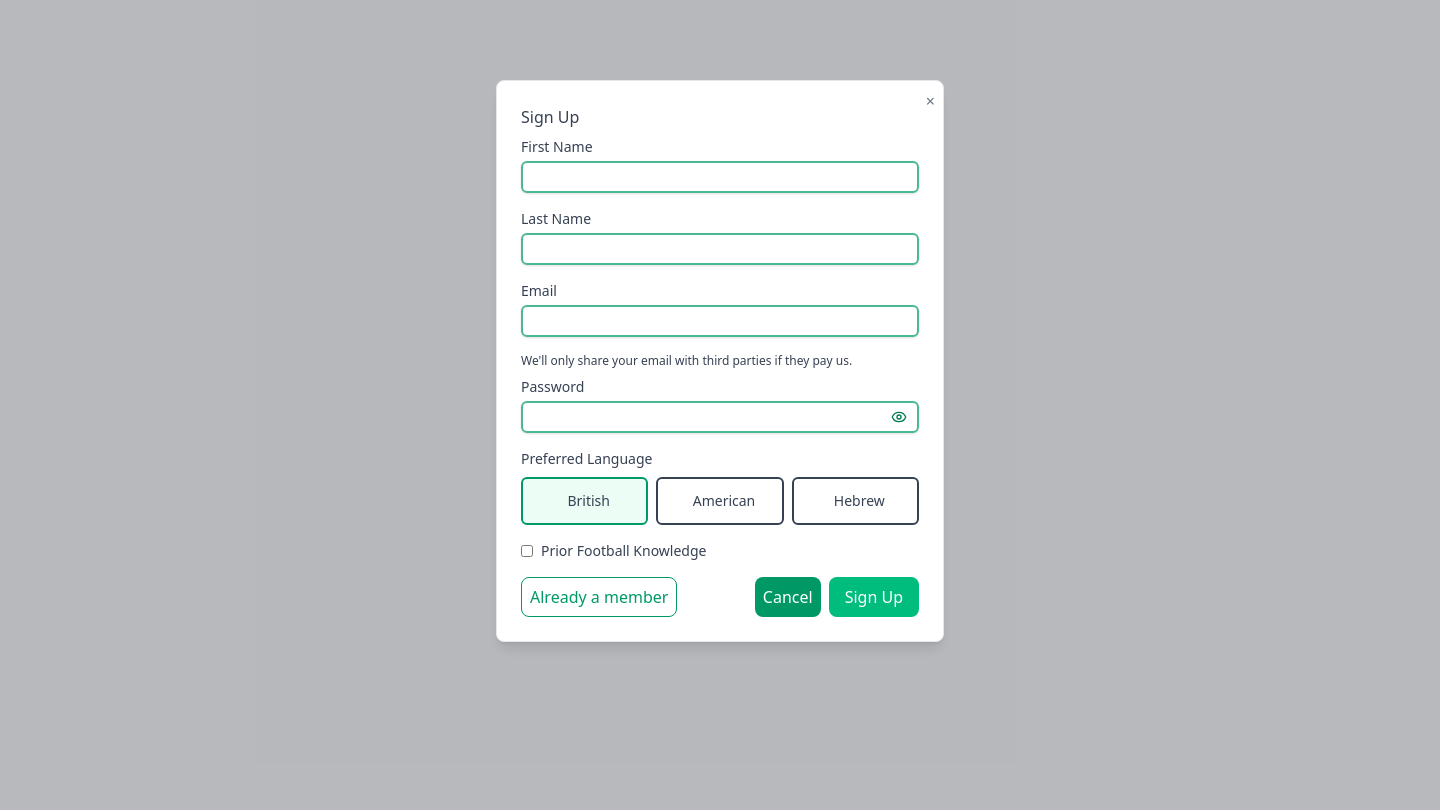
it: SignUpForm › validation › requires a last name
Type "Yekutiel" into the field labelled "First Name" at [720, 177], box [521,161,919,193]
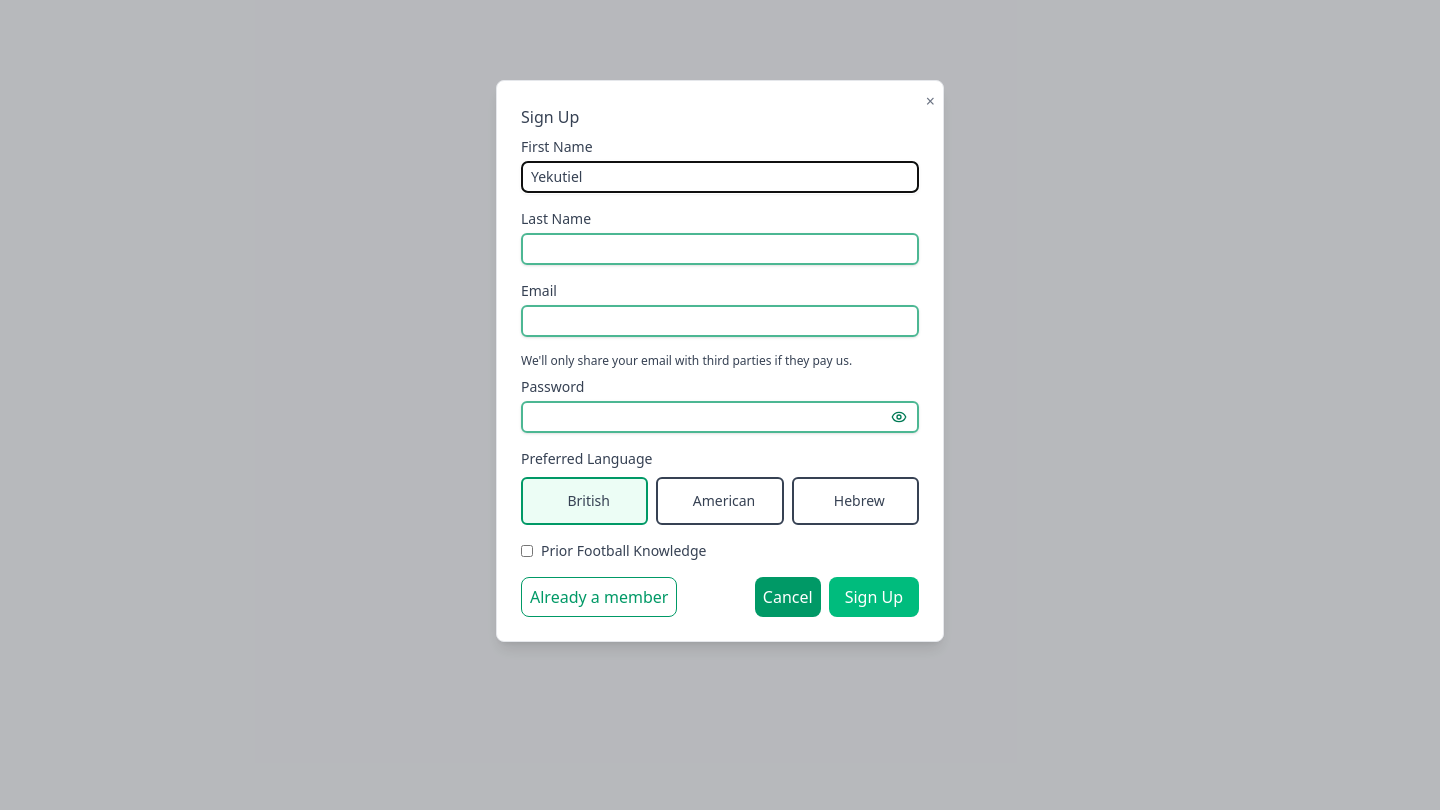
Click the button "Sign Up" at [874, 597], box [829,577,919,617]
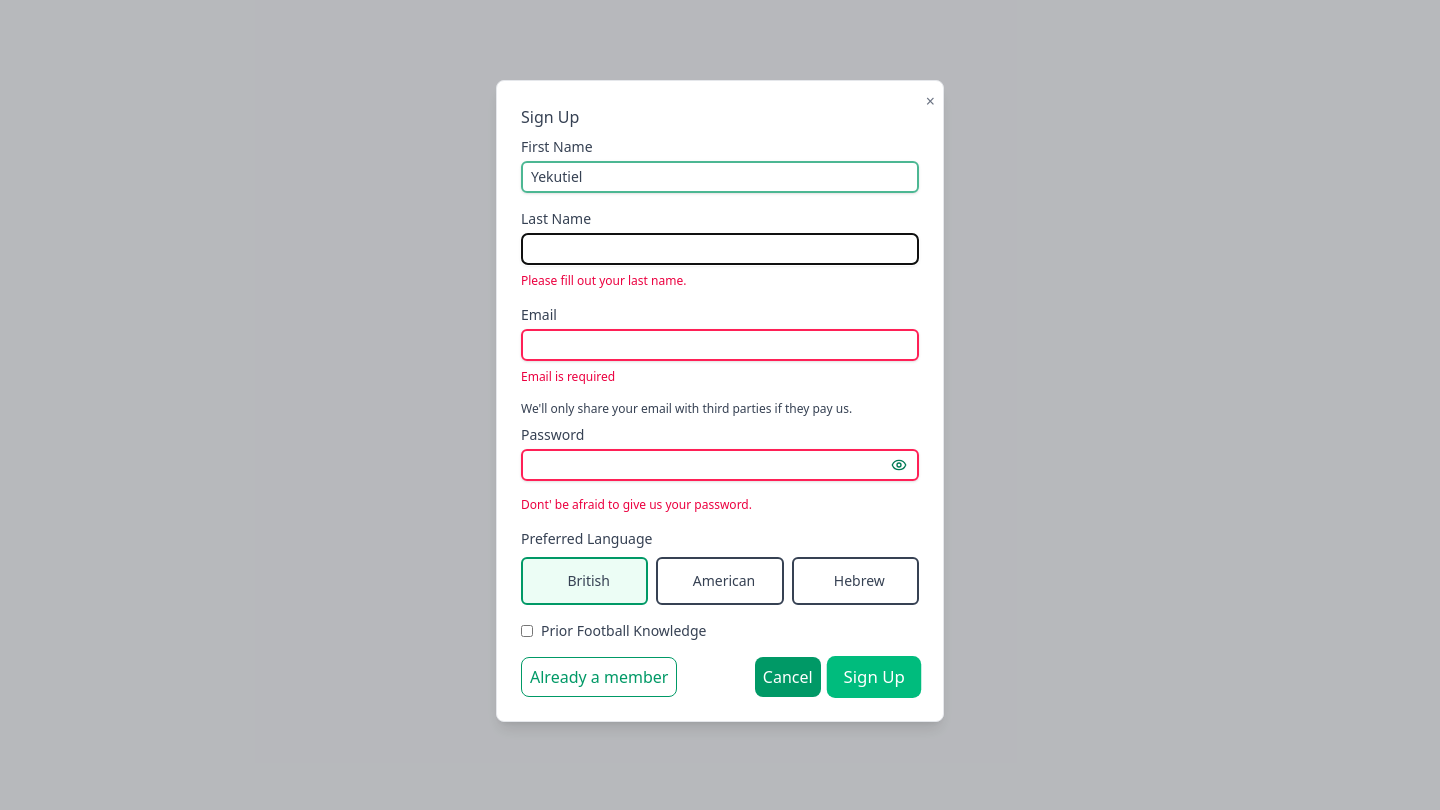
Check: the text "Please fill out your last name." is shown, box [521,272,686,289]
